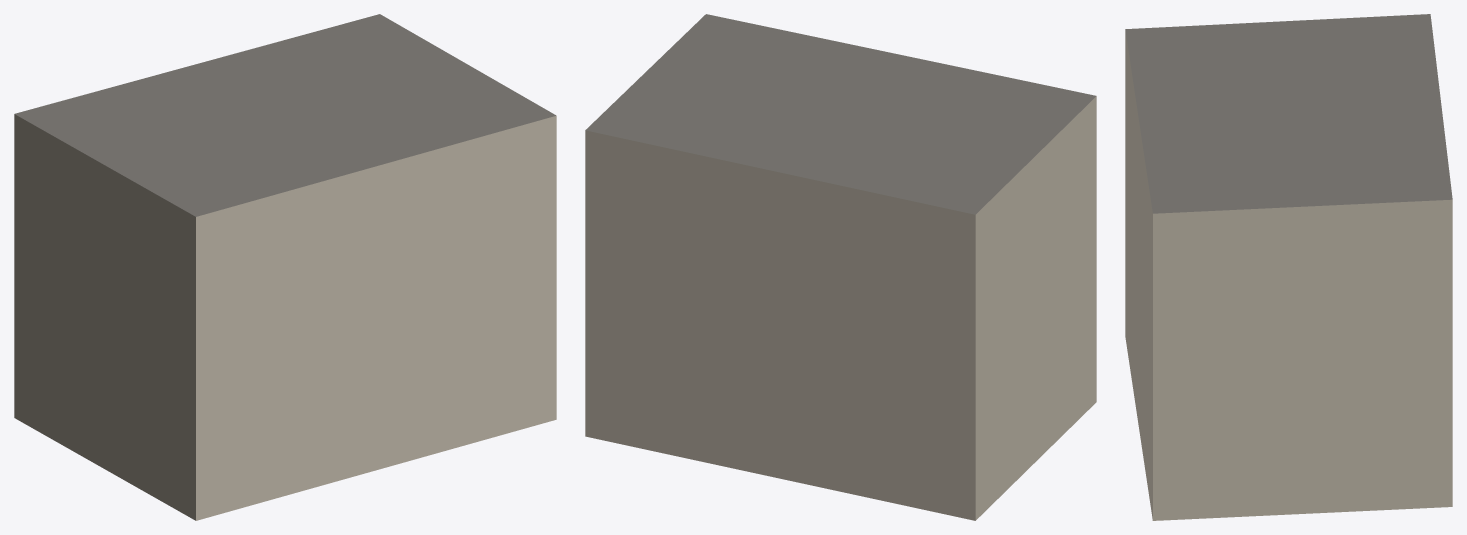
3 views of the same model, side by side, from view 1: azimuth 30°, elevation 25°; view 2: azimuth 150°, elevation 25°; view 3: azimuth 270°, elevation 25° (orthographic).
Parts seen in each view (by area): view 1: HP-w505641177; view 2: HP-w505641177; view 3: HP-w505641177.
Part boxes in pixels (<box>): HP-w505641177: <box>14,14,556,520</box>; HP-w505641177: <box>585,14,1096,520</box>; HP-w505641177: <box>1125,14,1452,520</box>.
Size of the model in its own units: 25.1 by 18 by 17.38.
